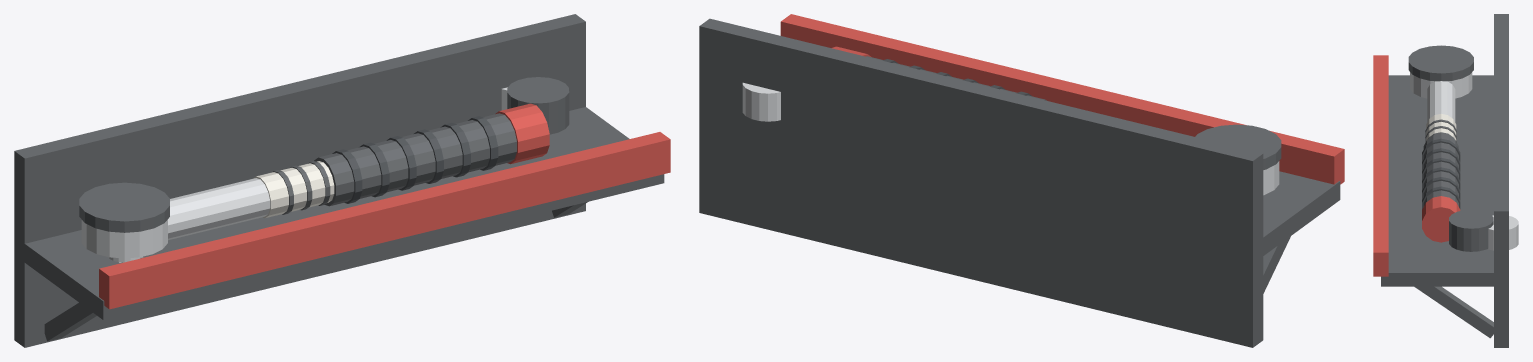
Rendered from car-repair-garage-and-mot-workshop-car-repair-garage-a-154385ac__34015.glb.
The picture shows the model from 3 angles, left to right: view 1: azimuth 30°, elevation 25°; view 2: azimuth 150°, elevation 25°; view 3: azimuth 270°, elevation 25°; orthographic projection. The views are drawn at different scales.
Parts seen in each view (by area): view 1: car-repair-garage-and-mot-workshop-torque-wrench-on-shelf; view 2: car-repair-garage-and-mot-workshop-torque-wrench-on-shelf; view 3: car-repair-garage-and-mot-workshop-torque-wrench-on-shelf.
Boxes of the visible parts, x1,y1,x2,y2 form: car-repair-garage-and-mot-workshop-torque-wrench-on-shelf: (14, 14, 670, 347); car-repair-garage-and-mot-workshop-torque-wrench-on-shelf: (699, 14, 1344, 347); car-repair-garage-and-mot-workshop-torque-wrench-on-shelf: (1373, 14, 1518, 347).
Size of the model in its own units: 0.6212 by 0.2 by 0.1926.
